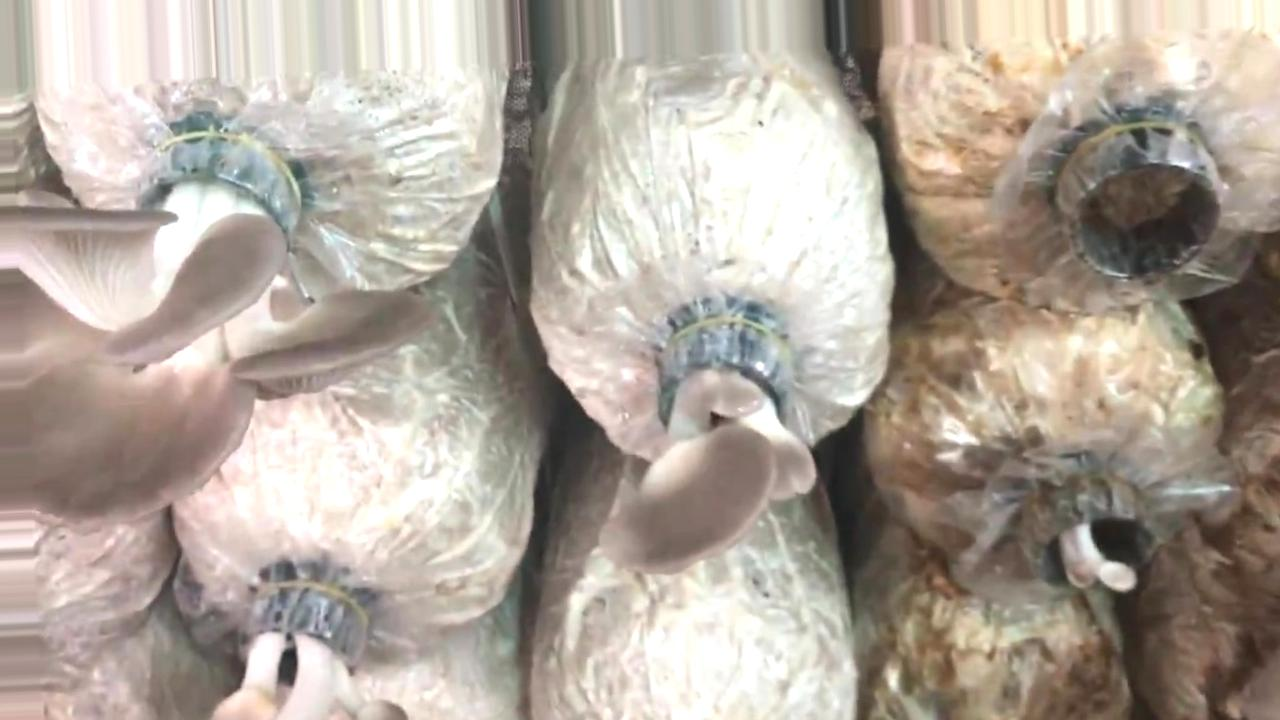nam: (1, 130, 439, 530), (602, 313, 821, 574), (1035, 485, 1155, 593)
